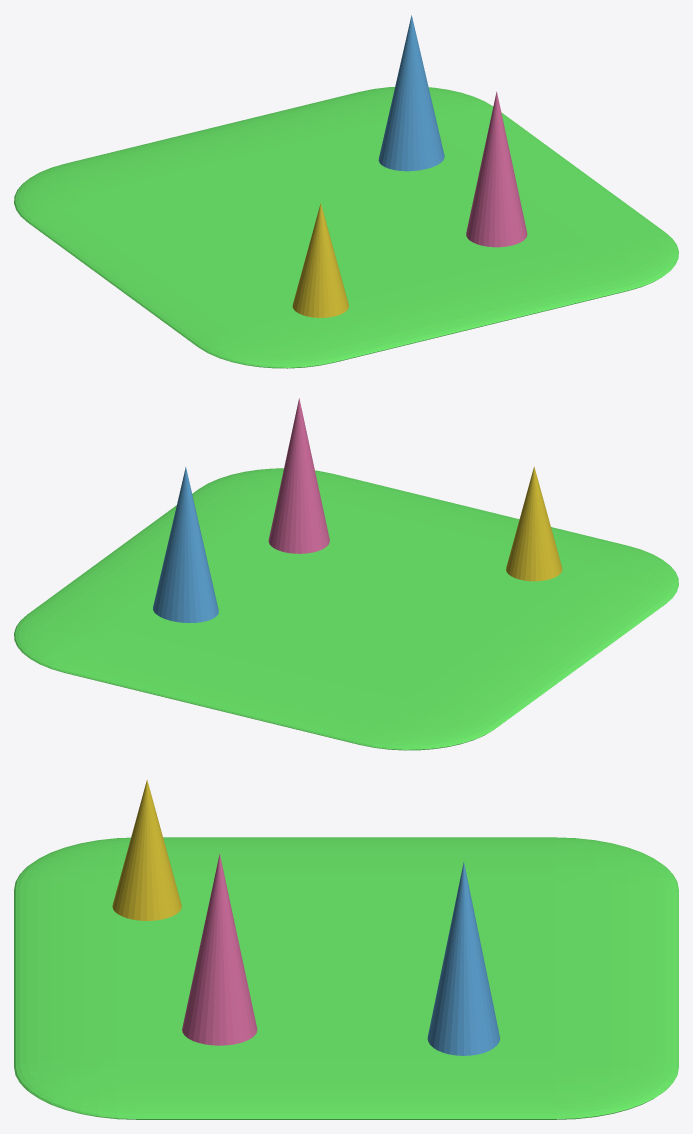
The model's file is world.glb.
3 renders of one model, top to bottom at view 1: azimuth 30°, elevation 25°; view 2: azimuth 150°, elevation 25°; view 3: azimuth 270°, elevation 25°, orthographic. The views are drawn at different scales.
Visible parts, largest first — view 1: Cube, 锥体.002, 锥体.001, 锥体; view 2: Cube, 锥体.002, 锥体.001, 锥体; view 3: Cube, 锥体.001, 锥体.002, 锥体.
Boxes of the visible parts, x1,y1,x2,y2 form: Cube: (14,87,678,368); 锥体.002: (378,15,444,171); 锥体.001: (466,91,527,247); 锥体: (292,203,348,317); Cube: (14,468,678,750); 锥体.002: (153,467,218,622); 锥体.001: (268,398,329,553); 锥体: (506,466,562,581); Cube: (14,837,678,1119); 锥体.001: (182,854,257,1045); 锥体.002: (427,862,500,1055); 锥体: (112,779,181,920).
Size of the model in its own units: 16.68 by 5.35 by 16.68.
